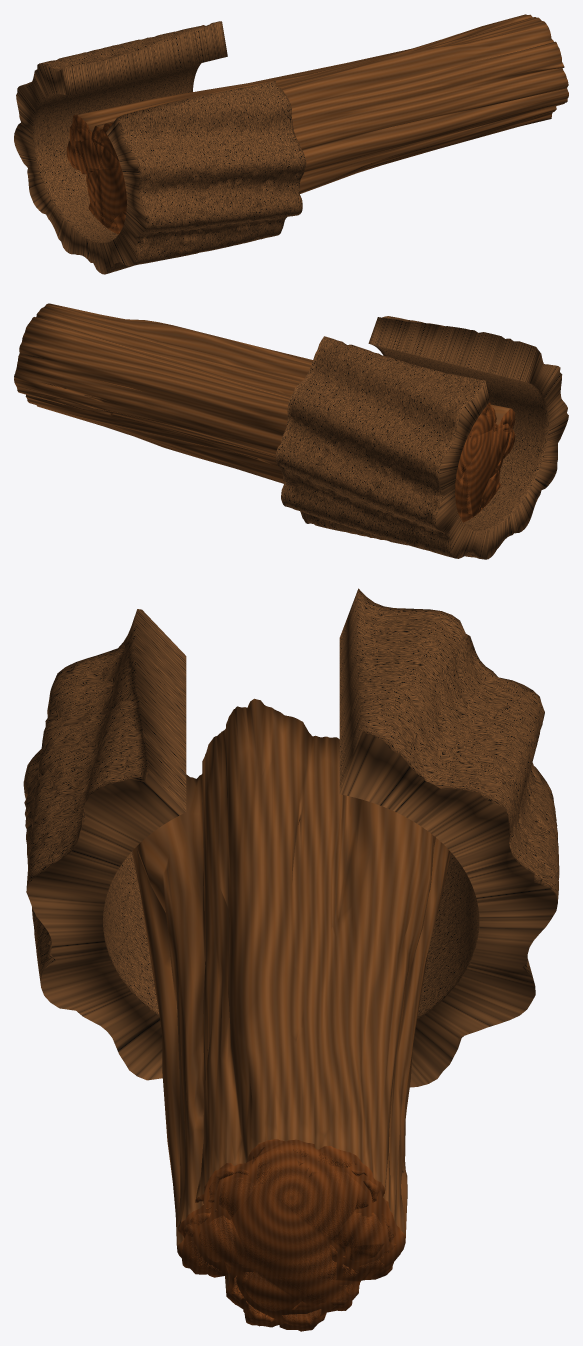
File: corkbark-6-lod0.gltf
3 views of the same model, one above another, from view 1: azimuth 30°, elevation 25°; view 2: azimuth 150°, elevation 25°; view 3: azimuth 270°, elevation 25° (orthographic). The views are drawn at different scales.
Visible parts, largest first — view 1: cork sleeve 0 L0, corkbark pale inner deadwood; view 2: cork sleeve 0 L0, corkbark pale inner deadwood; view 3: corkbark pale inner deadwood, cork sleeve 0 L0.
Boxes of the visible parts, box(x1,y1,x2,y2) form: cork sleeve 0 L0: box(14, 21, 306, 274); corkbark pale inner deadwood: box(66, 14, 568, 234); cork sleeve 0 L0: box(275, 316, 568, 559); corkbark pale inner deadwood: box(14, 303, 515, 522); corkbark pale inner deadwood: box(132, 698, 450, 1331); cork sleeve 0 L0: box(23, 588, 559, 1087).
Size of the model in its own units: 1.49 by 0.5857 by 0.7523.
3 materials, 3 textured.
